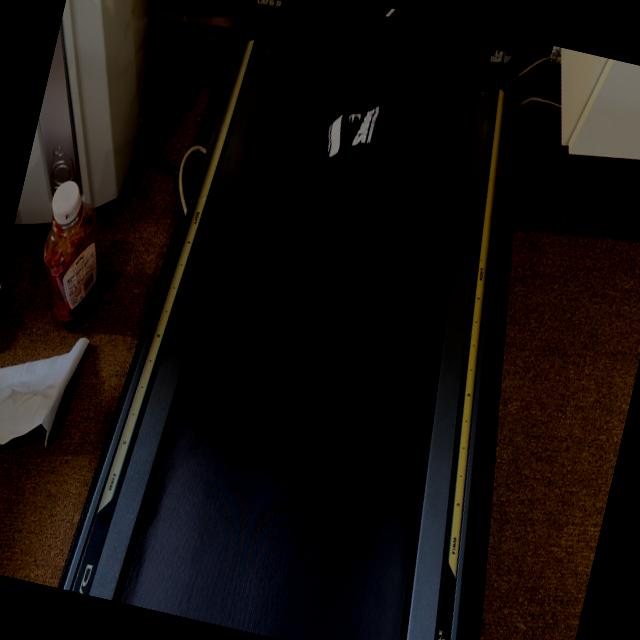Trash: (289, 94, 423, 296)
